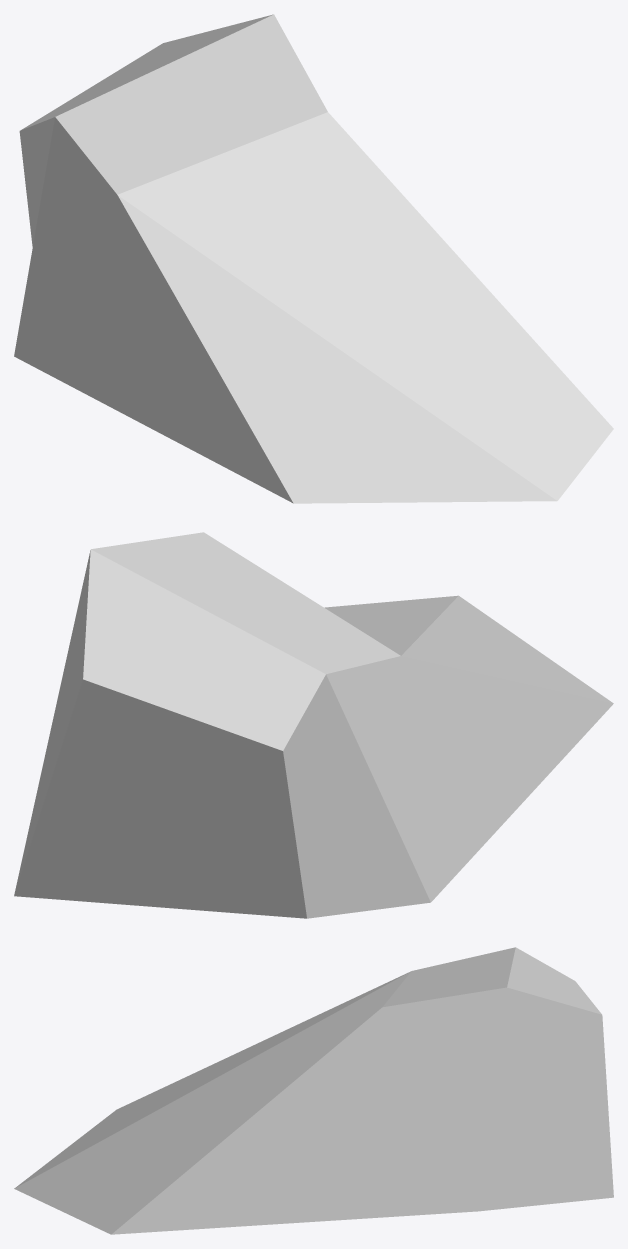
The model's file is obj_rock_8.fbx.
3 renders of one model, top to bottom at view 1: azimuth 30°, elevation 25°; view 2: azimuth 150°, elevation 25°; view 3: azimuth 270°, elevation 25°, orthographic. The views are drawn at different scales.
Visible parts, largest first — view 1: obj_rock_8; view 2: obj_rock_8; view 3: obj_rock_8.
Part boxes in pixels (<box>): obj_rock_8: <box>14,14,613,503</box>; obj_rock_8: <box>14,532,613,918</box>; obj_rock_8: <box>14,947,613,1234</box>.
Size of the model in its own units: 1.6 by 1.05 by 2.73.
Materials: 1 (1 with a texture image).
